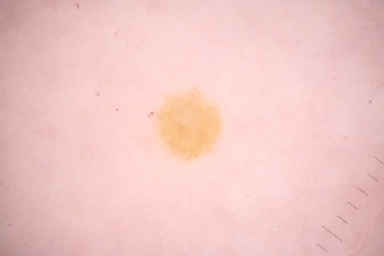melanoma: (157, 91, 222, 158)
